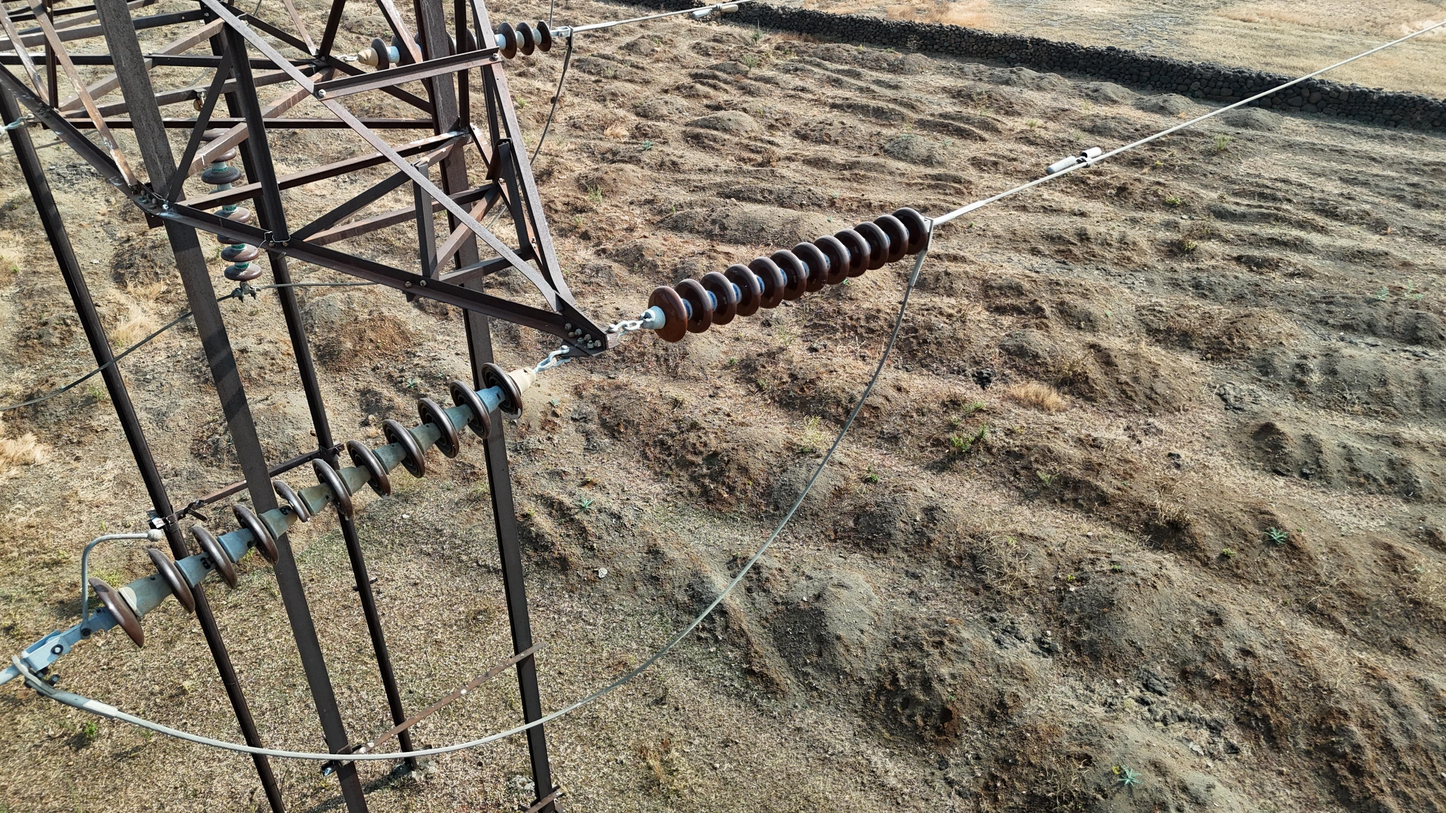broken_insulator: (271, 478, 327, 542), (345, 440, 393, 500), (312, 456, 355, 522), (480, 362, 523, 420), (535, 17, 551, 53)
